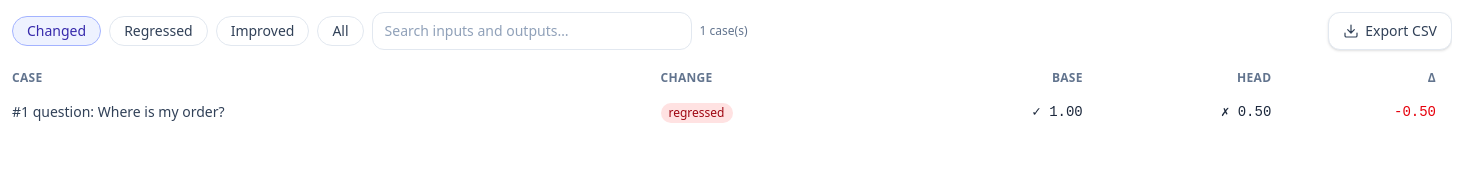
Test: CompareTable CSV export › disables export when no rows match
Type "nothing matches this" into the field named "Search cases".
click(532, 31); type("nothing matches this")  # box [372,12,692,50]
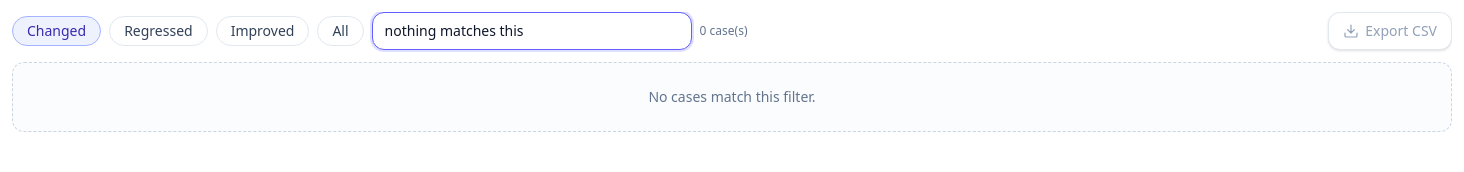
Now the button "Export CSV" is disabled, box [1328,12,1452,50]
